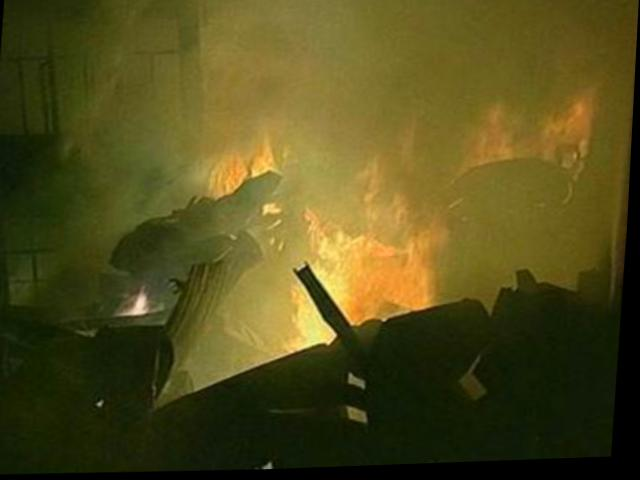fire: (194, 122, 453, 352), (464, 87, 594, 185)
